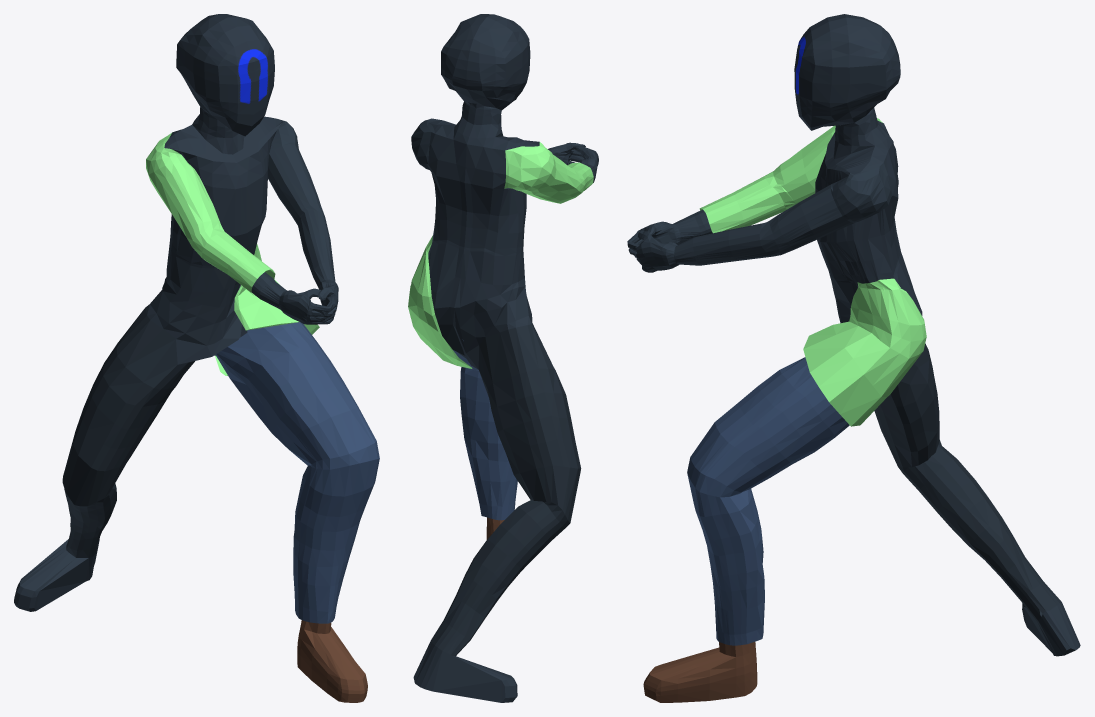
The model's file is Mar_Attack_000030.obj.
3 views of the same model, side by side, from view 1: azimuth 30°, elevation 25°; view 2: azimuth 150°, elevation 25°; view 3: azimuth 270°, elevation 25° (orthographic). The views are drawn at different scales.
Visible parts, largest first — view 1: Cube.000_Cube.001; view 2: Cube.000_Cube.001; view 3: Cube.000_Cube.001.
Part boxes in pixels (x1,y1,x2,y2): Cube.000_Cube.001: [14, 14, 379, 702]; Cube.000_Cube.001: [408, 14, 598, 702]; Cube.000_Cube.001: [627, 14, 1080, 702].
Size of the model in its own units: 1.21 by 3.51 by 2.17.
